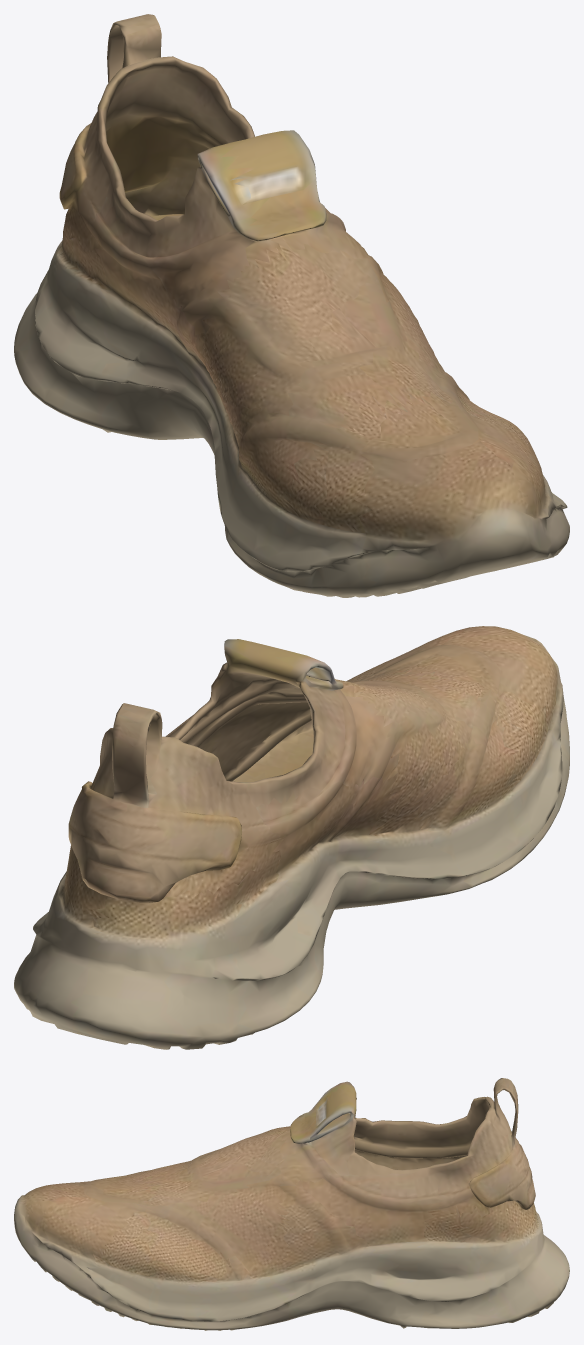
Rendered from sole-max-cush-slip-ons-for-women-beige.glb.
3 views of the same model, one above another, from view 1: azimuth 30°, elevation 25°; view 2: azimuth 150°, elevation 25°; view 3: azimuth 270°, elevation 25° (orthographic). The views are drawn at different scales.
Parts seen in each view (by area): view 1: tripo_node_a3b63111-4c0f-4ca0-a5af-8bfb4d5cb4f4; view 2: tripo_node_a3b63111-4c0f-4ca0-a5af-8bfb4d5cb4f4; view 3: tripo_node_a3b63111-4c0f-4ca0-a5af-8bfb4d5cb4f4.
Boxes of the visible parts, <box> form: tripo_node_a3b63111-4c0f-4ca0-a5af-8bfb4d5cb4f4: <box>14,14,569,597</box>; tripo_node_a3b63111-4c0f-4ca0-a5af-8bfb4d5cb4f4: <box>14,626,569,1049</box>; tripo_node_a3b63111-4c0f-4ca0-a5af-8bfb4d5cb4f4: <box>14,1078,569,1330</box>.
Size of the model in its own units: 0.3814 by 0.4083 by 1.
1 material, 1 textured.
